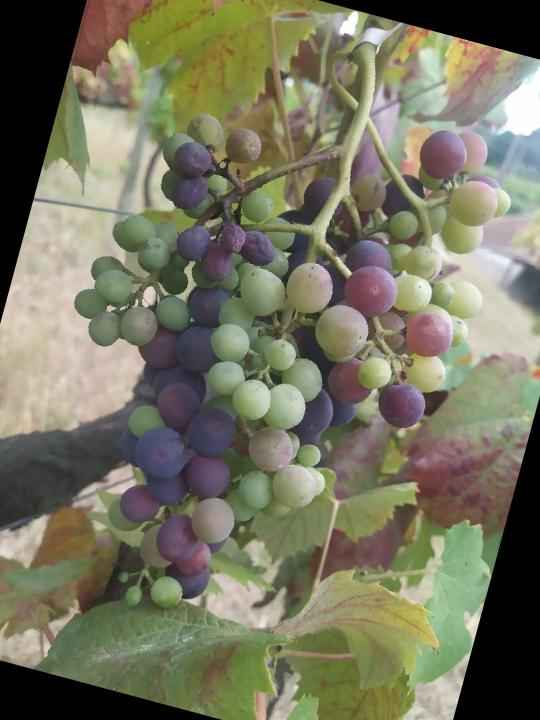grape: (0, 39, 529, 677)
